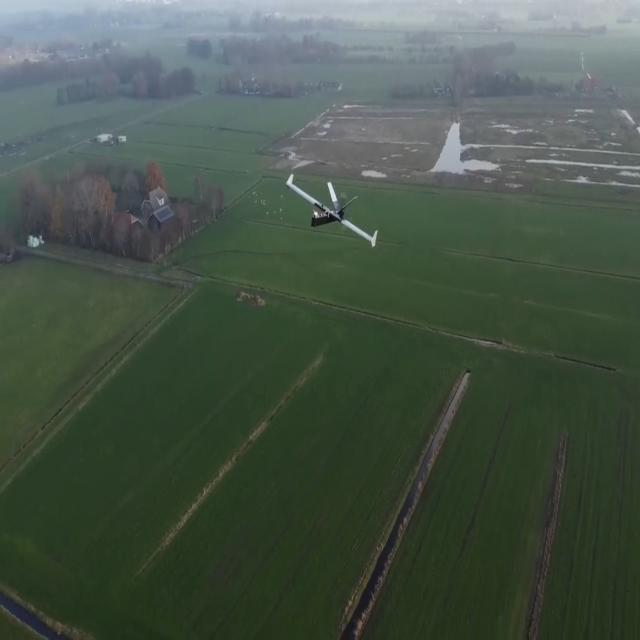iha: (312, 211, 339, 216)
